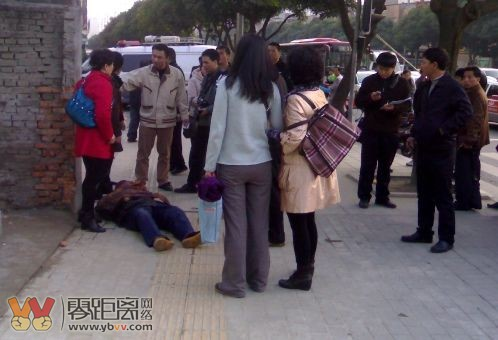10+: (63, 32, 496, 296)
down: (95, 181, 206, 258)
